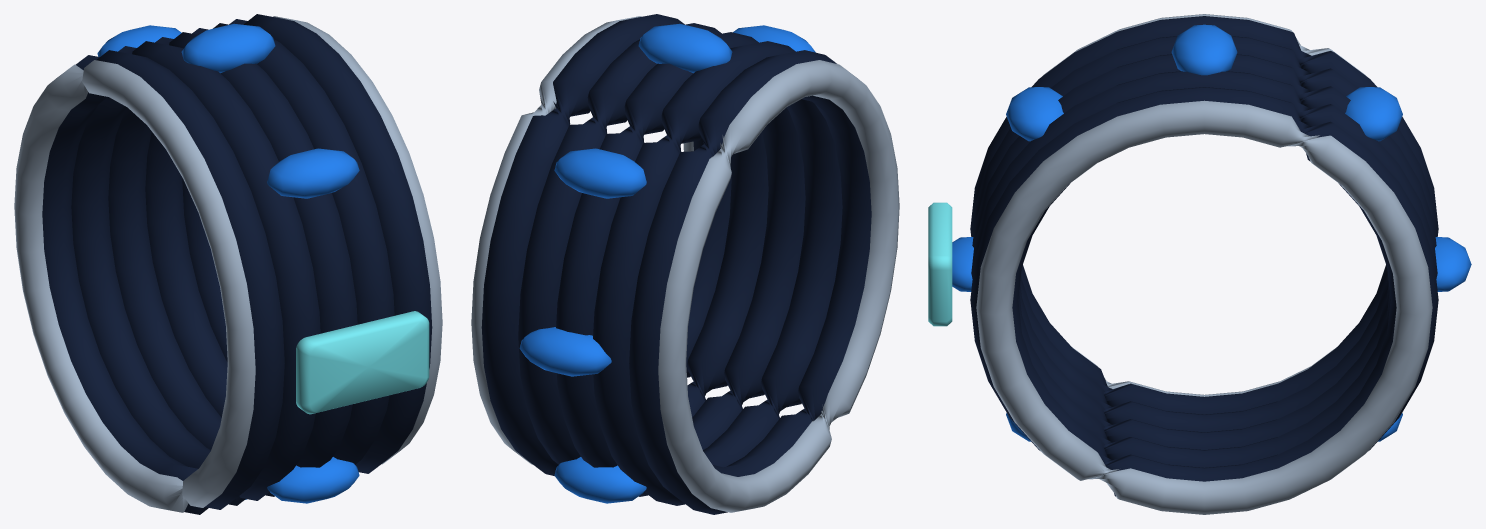
File: nova_cuff.glb
3 views of the same model, side by side, from view 1: azimuth 30°, elevation 25°; view 2: azimuth 150°, elevation 25°; view 3: azimuth 270°, elevation 25° (orthographic).
Parts seen in each view (by area): view 1: nova_cuff_dark, nova_cuff_metal, nova_cuff_accent, nova_cuff_gem; view 2: nova_cuff_dark, nova_cuff_metal, nova_cuff_accent; view 3: nova_cuff_dark, nova_cuff_metal, nova_cuff_accent, nova_cuff_gem.
Part boxes in pixels (left/top/right/bottom): nova_cuff_dark: left=42, top=14, right=432, bottom=514; nova_cuff_metal: left=14, top=16, right=442, bottom=512; nova_cuff_accent: left=97, top=23, right=359, bottom=503; nova_cuff_gem: left=296, top=311, right=429, bottom=414; nova_cuff_dark: left=481, top=14, right=871, bottom=514; nova_cuff_metal: left=471, top=16, right=899, bottom=512; nova_cuff_accent: left=519, top=23, right=815, bottom=503; nova_cuff_dark: left=970, top=16, right=1438, bottom=496; nova_cuff_metal: left=976, top=14, right=1432, bottom=514; nova_cuff_accent: left=952, top=24, right=1471, bottom=441; nova_cuff_gem: left=928, top=202, right=952, bottom=326.
Size of the model in its own units: 0.04 by 0.085 by 0.0905.
